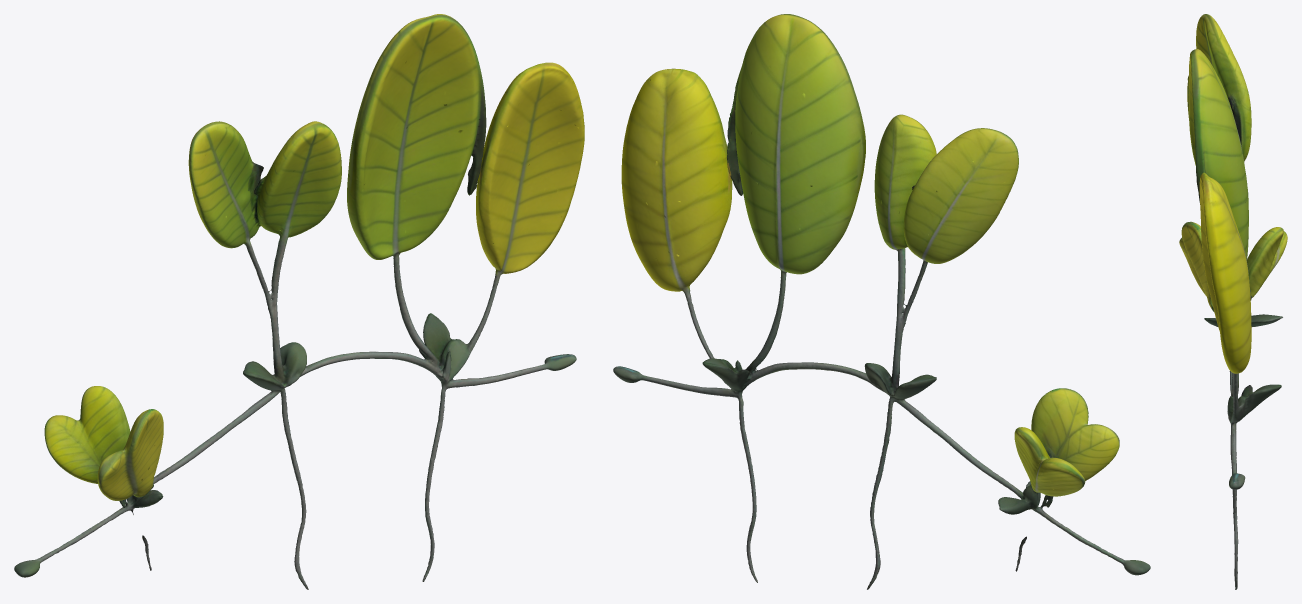
The model's file is halophila_ovalis.glb.
3 views of the same model, side by side, from view 1: azimuth 30°, elevation 25°; view 2: azimuth 150°, elevation 25°; view 3: azimuth 270°, elevation 25° (orthographic). The views are drawn at different scales.
Bounding box in the file's own units: 2 × 1.99 × 0.3708.
1 material, 1 textured.
